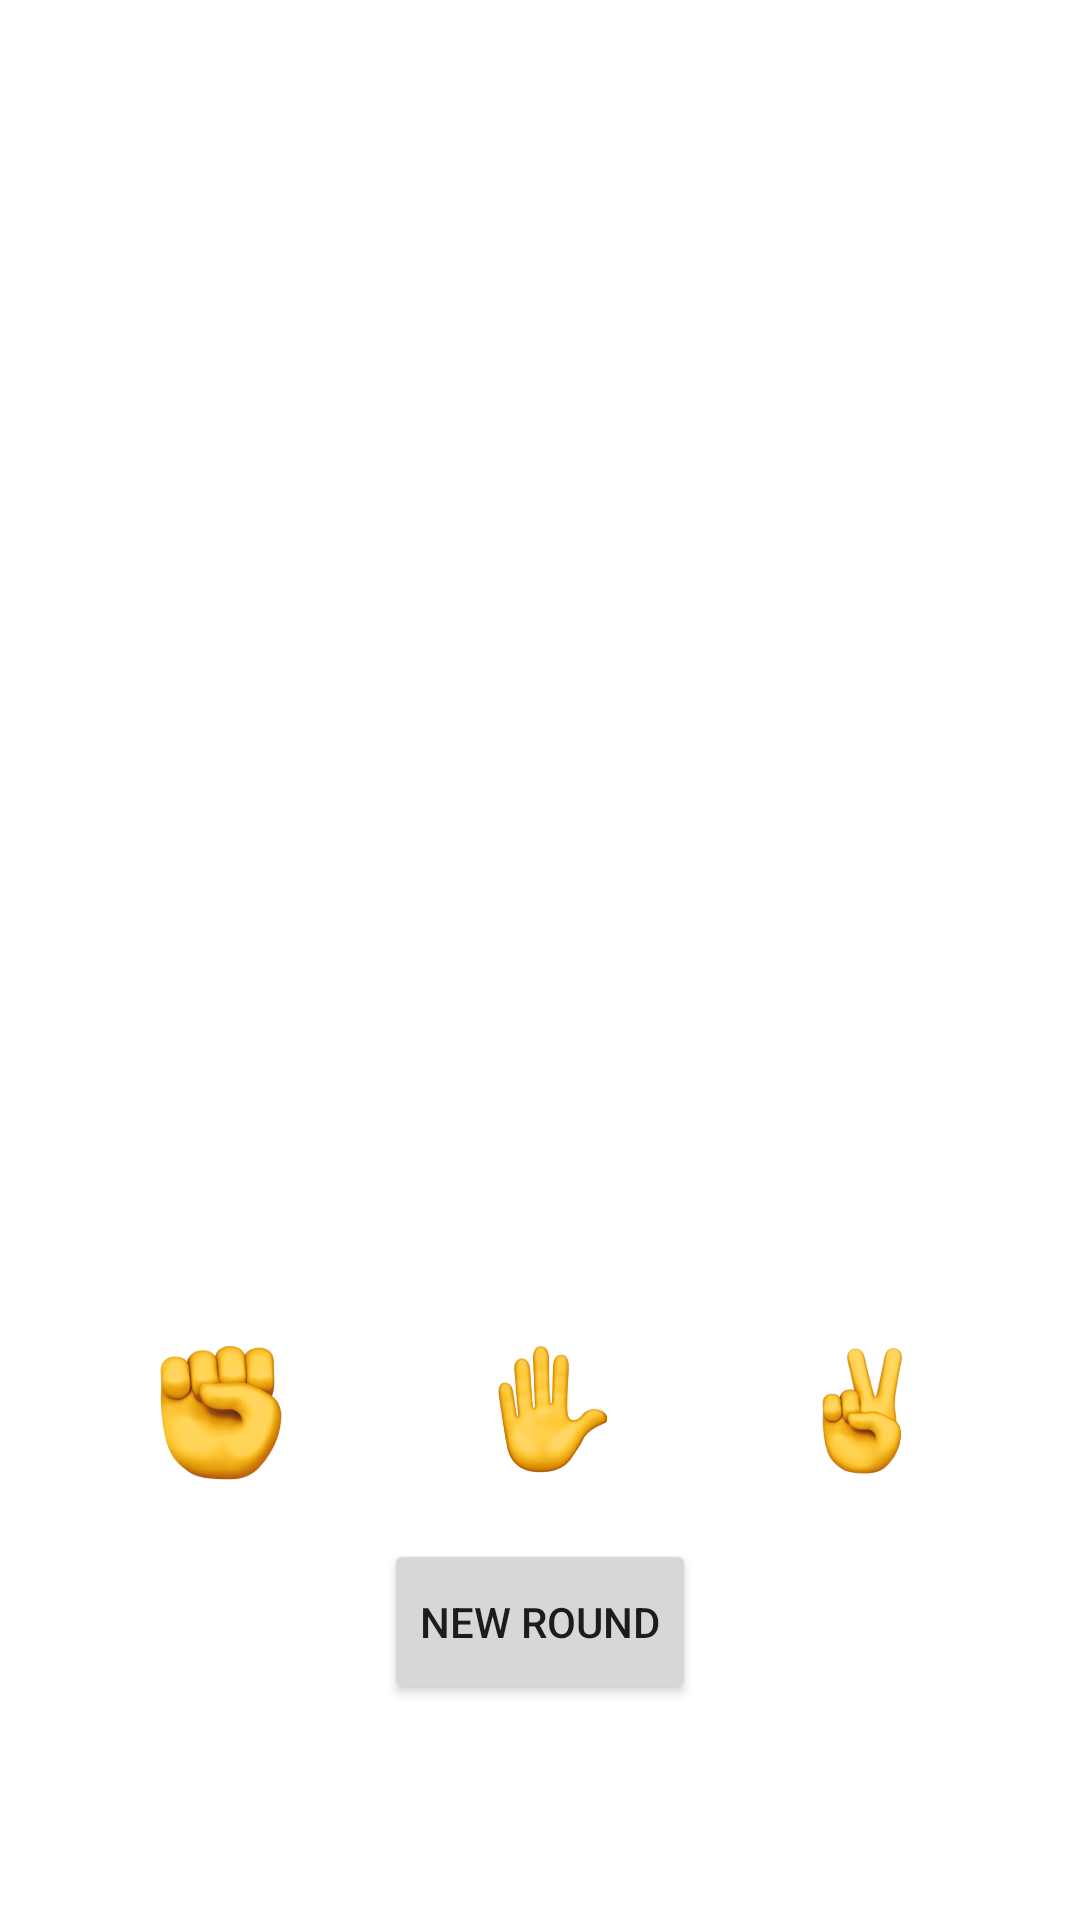

Named icons in this screenshot (1080w x 1920h) and their centers, [x,y]:
PAPER: [553,1409]
ROCK: [221,1413]
SCISSORS: [862,1411]
